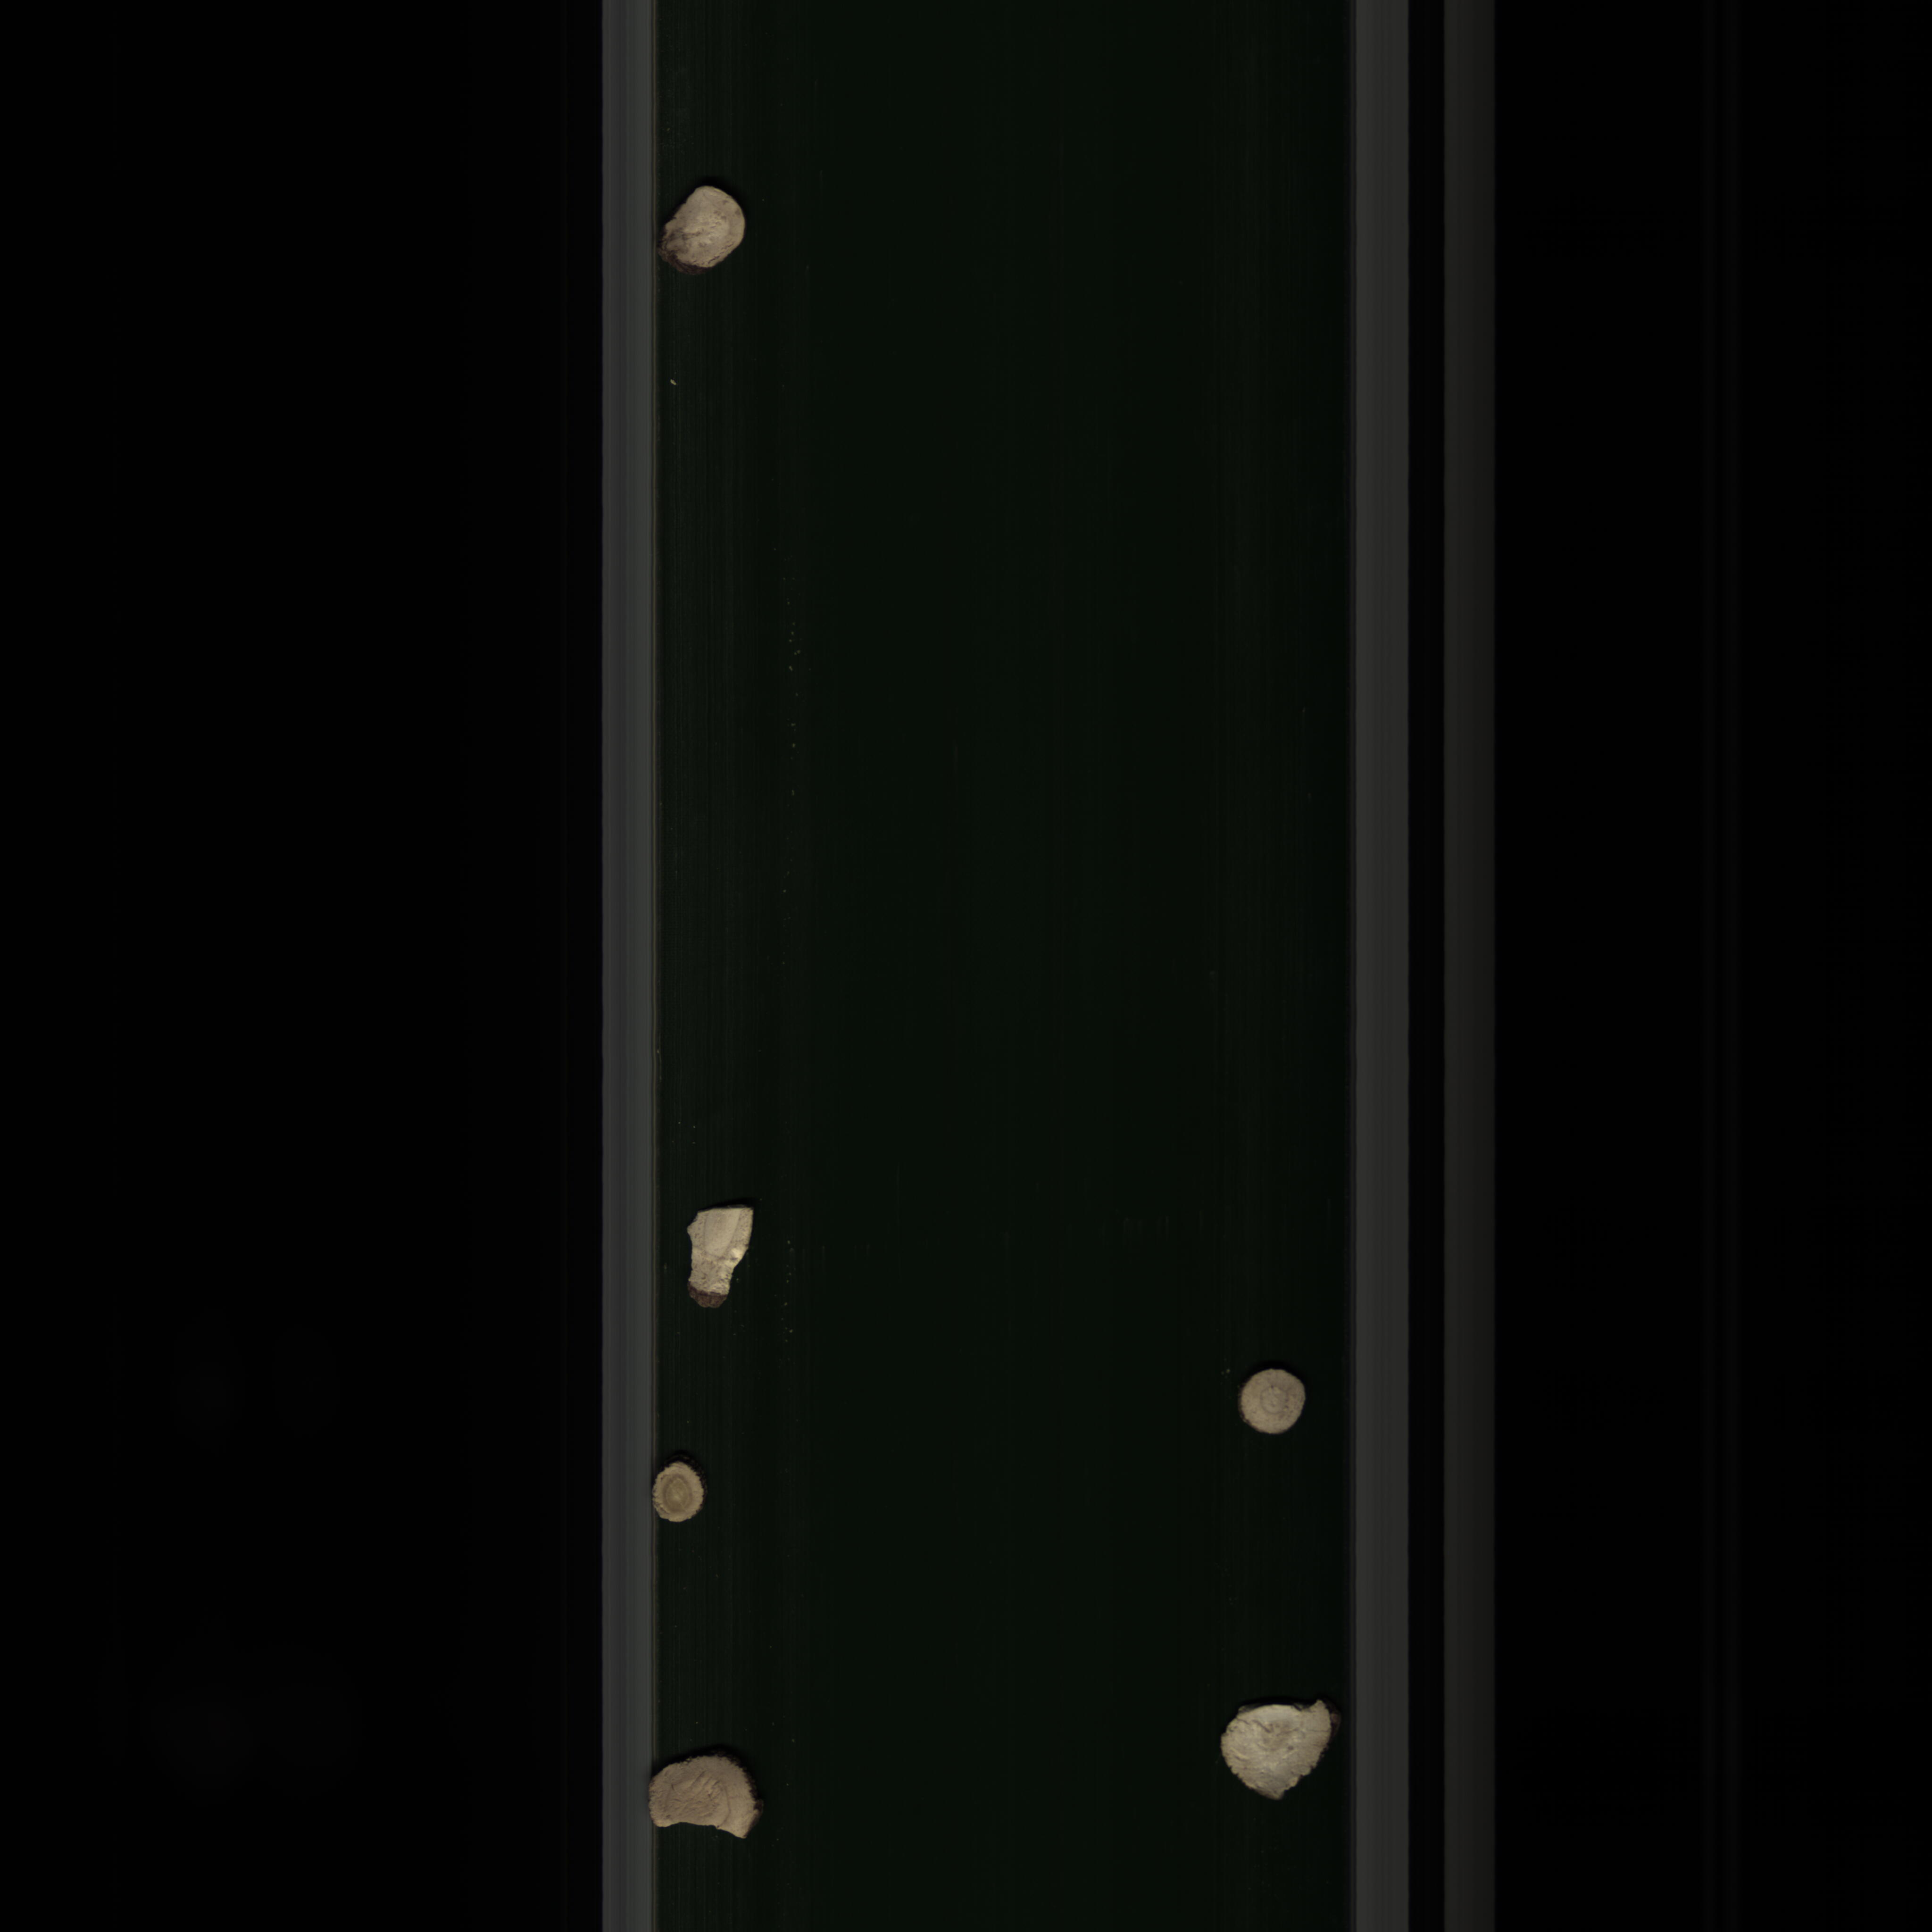debris: (1212, 1683, 1345, 1819), (672, 1189, 777, 1334), (644, 1750, 778, 1859)
moldy: (644, 175, 770, 294), (644, 1454, 720, 1536)
